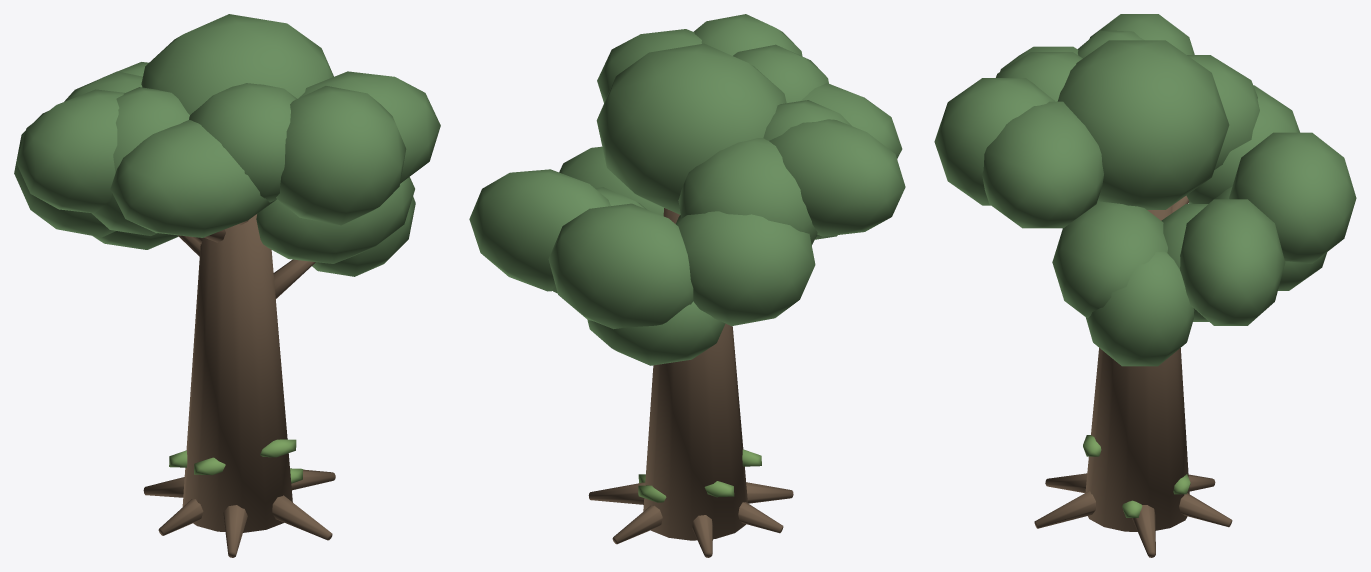
The model's file is ancient_tree_1.glb.
The picture shows the model from 3 angles, left to right: view 1: azimuth 30°, elevation 25°; view 2: azimuth 150°, elevation 25°; view 3: azimuth 270°, elevation 25°; orthographic projection. The views are drawn at different scales.
Visible parts, largest first — view 1: AncientTreeCanopyV2, AncientTreeTrunkV2, AncientTreeMossV2; view 2: AncientTreeCanopyV2, AncientTreeTrunkV2, AncientTreeMossV2; view 3: AncientTreeCanopyV2, AncientTreeTrunkV2, AncientTreeMossV2.
Boxes of the visible parts, x1,y1,x2,y2 form: AncientTreeCanopyV2: (14,14,440,276); AncientTreeTrunkV2: (143,214,335,557); AncientTreeMossV2: (169,439,303,483); AncientTreeCanopyV2: (469,14,905,365); AncientTreeTrunkV2: (588,208,793,557); AncientTreeMossV2: (638,449,761,502); AncientTreeCanopyV2: (934,14,1356,366); AncientTreeTrunkV2: (1034,195,1232,557); AncientTreeMossV2: (1083,435,1190,517).
Size of the model in its own units: 5.77 by 6.89 by 5.69.
